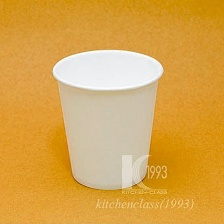paper_cup: (48, 44, 167, 193)
